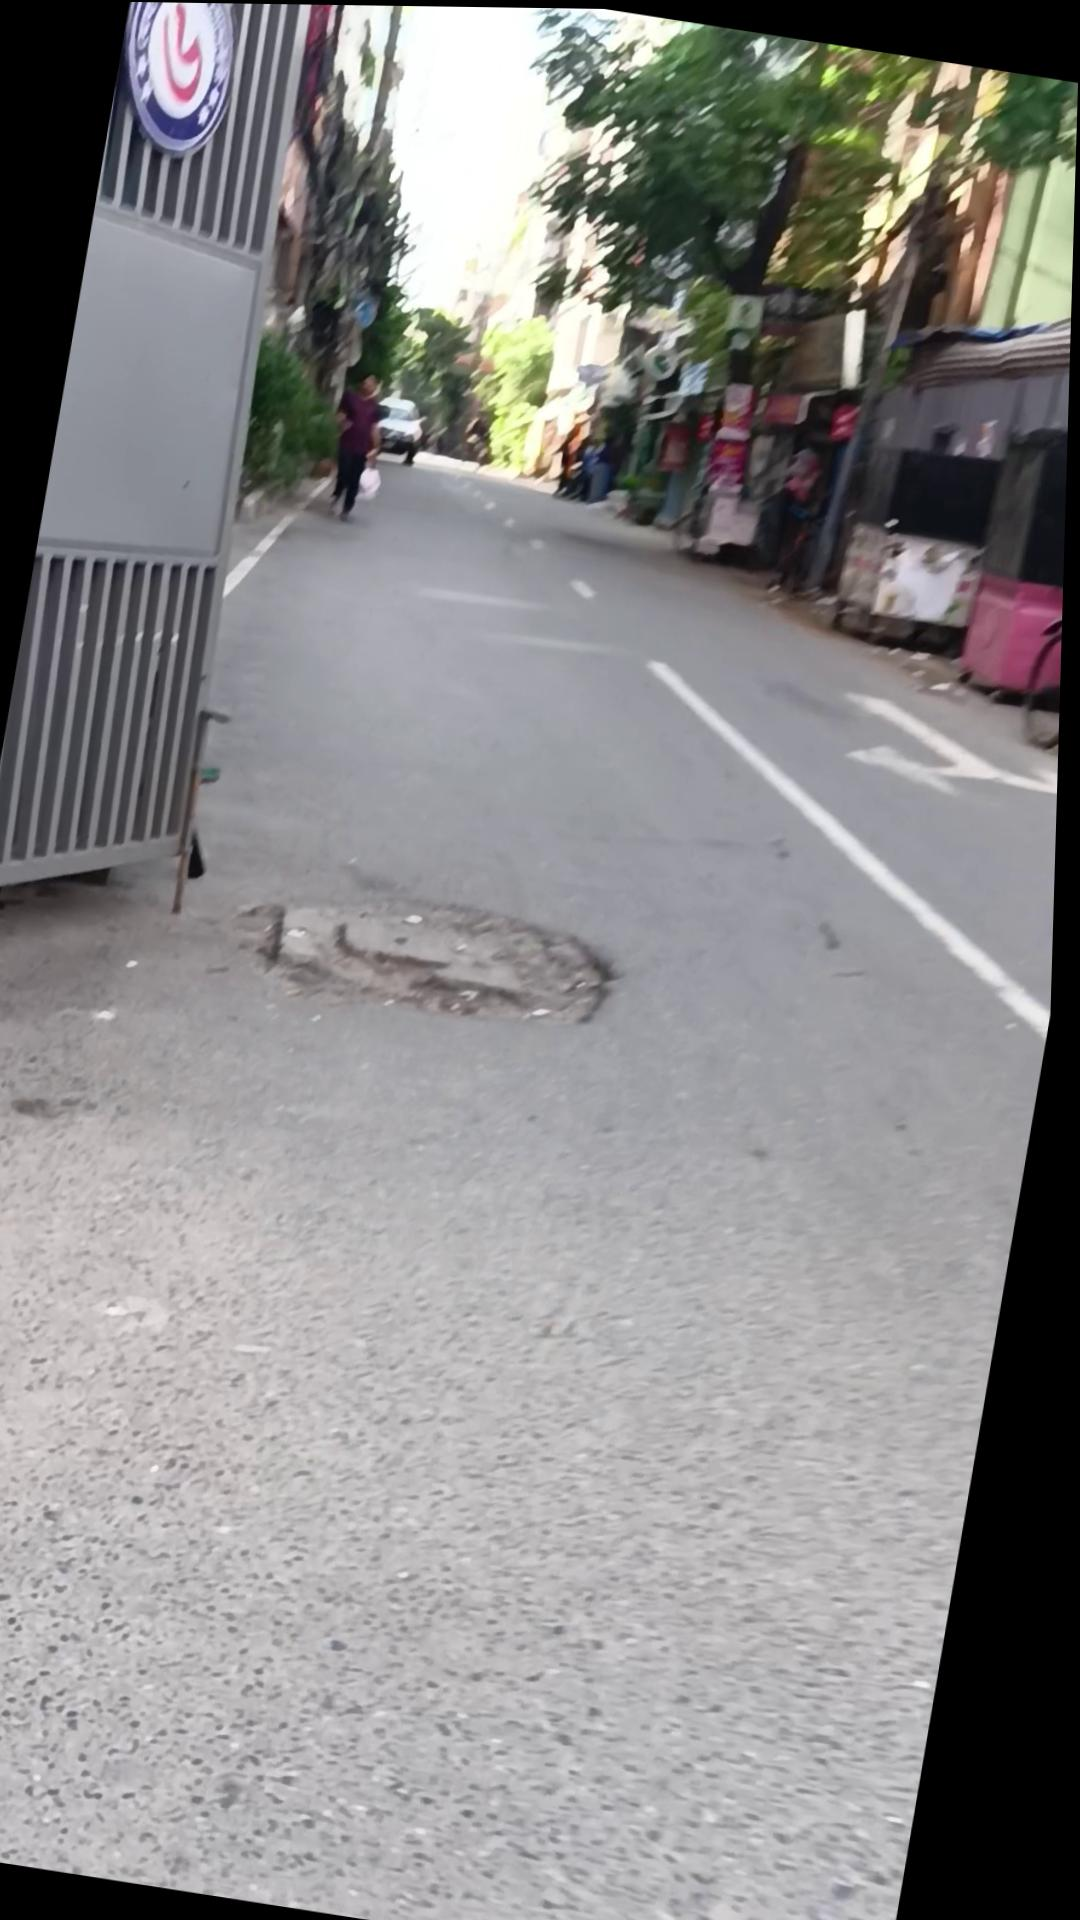Bollard: (369, 392, 433, 463)
Curb: (319, 367, 396, 524)
Downstairs: (233, 862, 637, 1044)
Fallen-tree: (609, 465, 673, 525)
Fence: (1015, 450, 1069, 753)
Light-pole: (452, 5, 930, 564)
